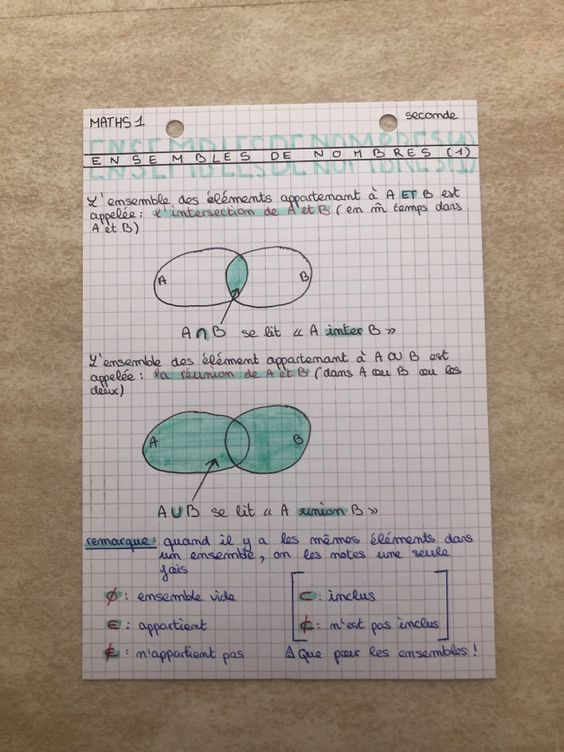page: (83, 110, 477, 675)
